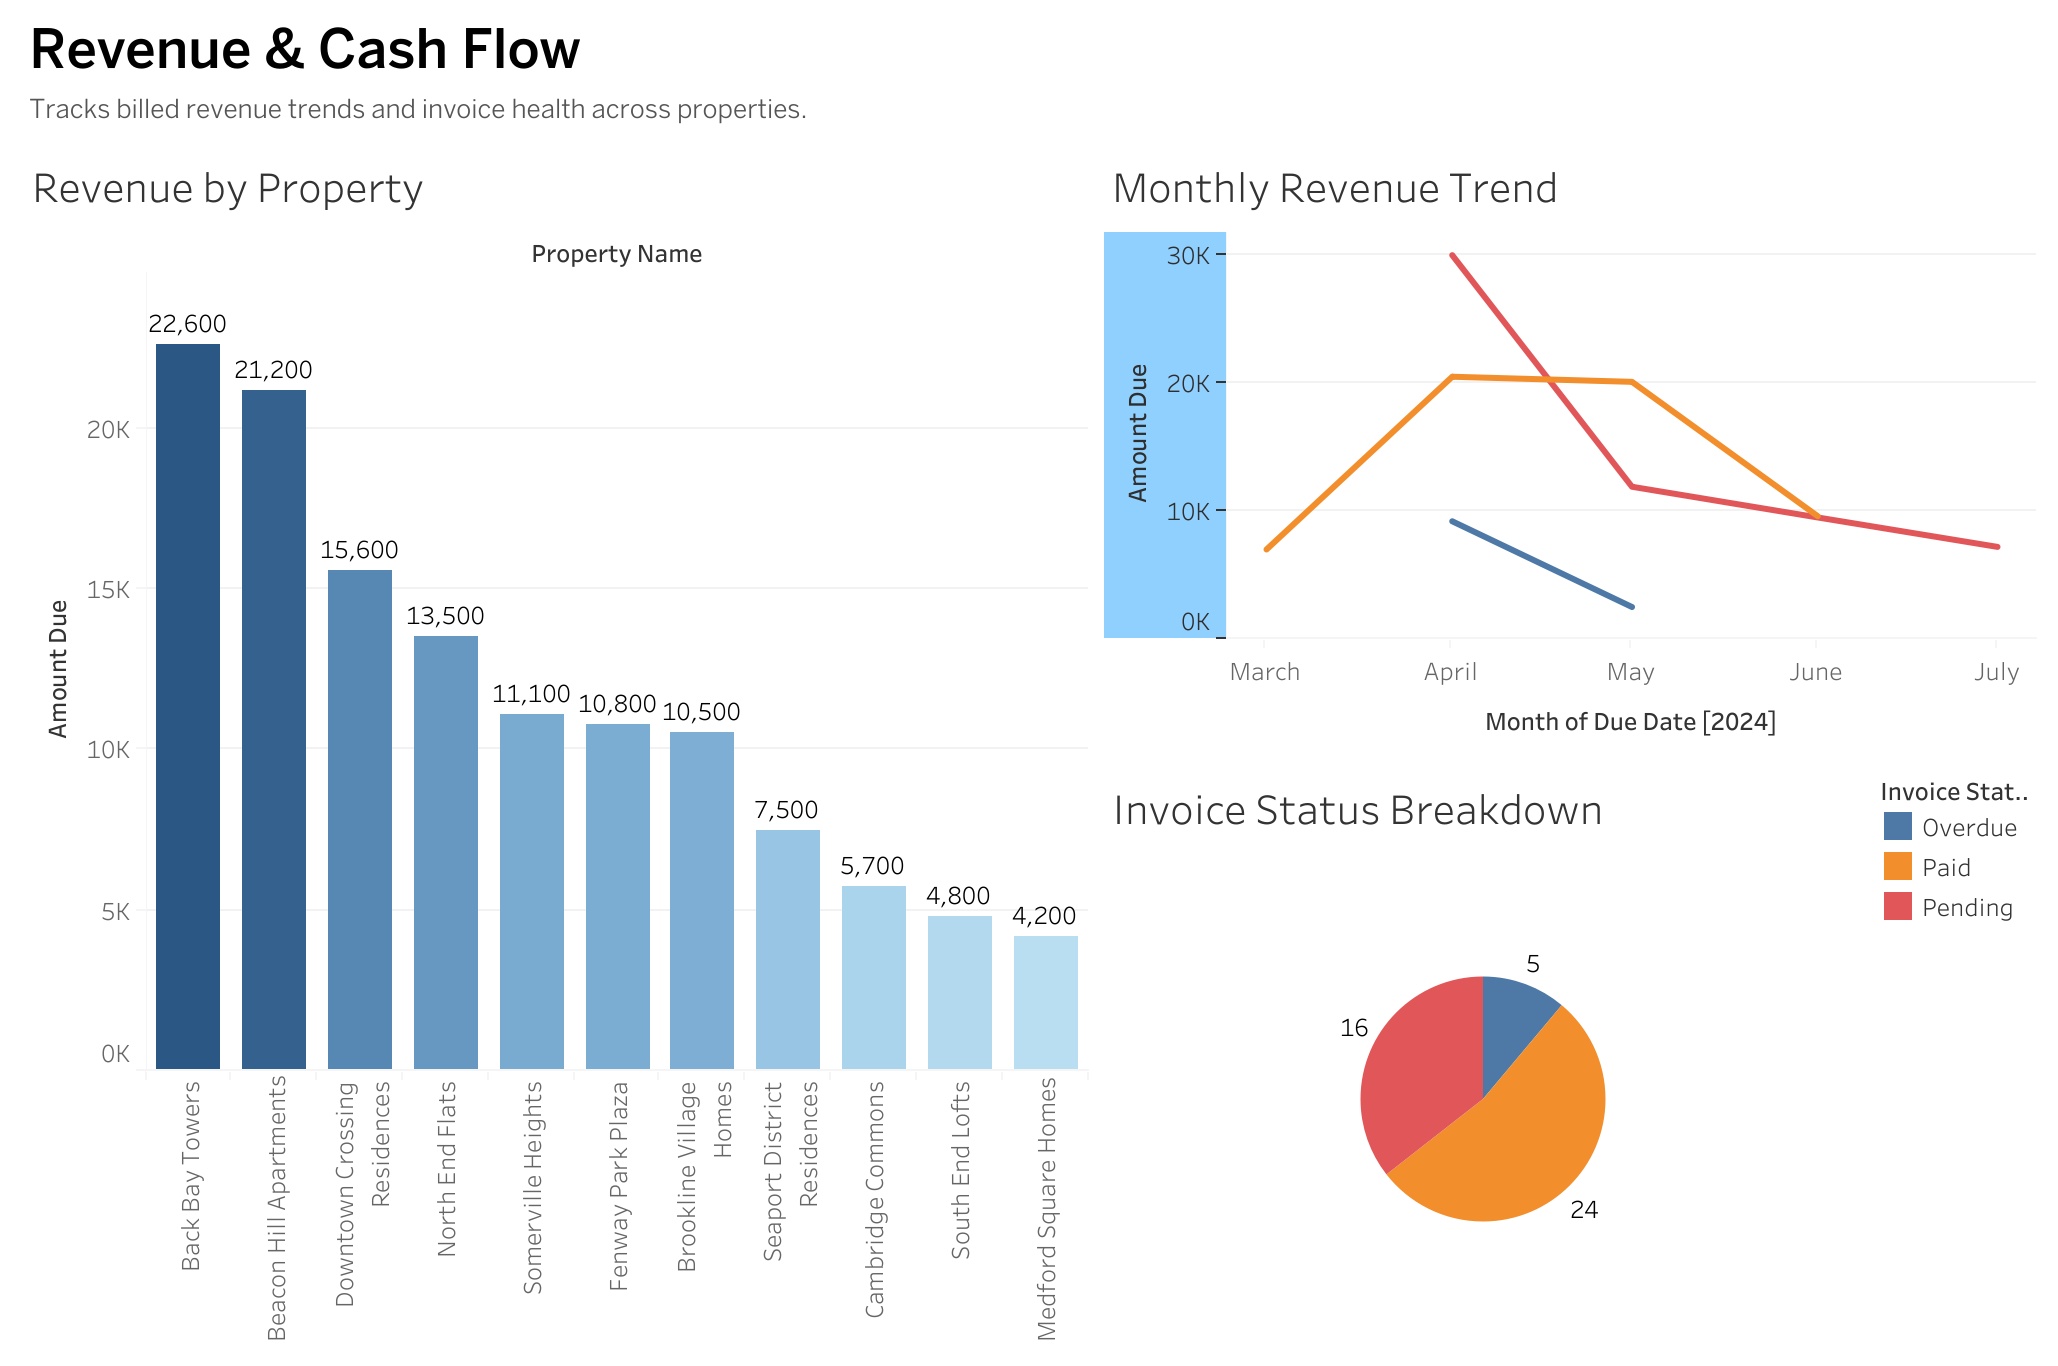

Layout of this report page (visuals, bound fields, positions):
{"tool":"tableau","page":{"name":"Revenue & Cash Flow","canvas":[1000,1000],"units":"permille","ordinal":1},"visuals":[{"type":"text","box":[6.3,10.5,987.3,47.2]},{"type":"text","box":[6.3,57.7,987.3,42]},{"type":"worksheet","title":"Revenue by Property","mark":"Automatic","rows":["amount_due"],"cols":["PropertyName"],"box":[6.3,99.7,525.4,889.8]},{"type":"worksheet","title":"Monthly Revenue Trend","mark":"Line","rows":["amount_due"],"cols":["due_date"],"box":[531.7,99.7,462,455.4]},{"type":"worksheet","title":"Invoice Status Breakdown","mark":"Pie","box":[531.7,555.1,377,434.4]},{"type":"legend","title":"Monthly Revenue Trend","param":"[federated.1nizskv10q18ku10a5drp0hqczo5].[none:invoice_status:nk]","box":[908.7,555.1,85,434.4]}]}

Visuals, with their boxes on the dashboard's canvas, which has no fixed pixel size, in thousandths of its width and height (x1, y1, x2, y2). These are canvas units, not pixel positions in the 2058x1366 screenshot, which may show the page scaled, cropped or inside an application window:
text: (x1=6, y1=10, x2=994, y2=58)
text: (x1=6, y1=58, x2=994, y2=100)
"Revenue by Property" worksheet: (x1=6, y1=100, x2=532, y2=990)
"Monthly Revenue Trend" worksheet (Line marks): (x1=532, y1=100, x2=994, y2=555)
"Invoice Status Breakdown" worksheet (Pie marks): (x1=532, y1=555, x2=909, y2=990)
"Monthly Revenue Trend" legend: (x1=909, y1=555, x2=994, y2=990)
